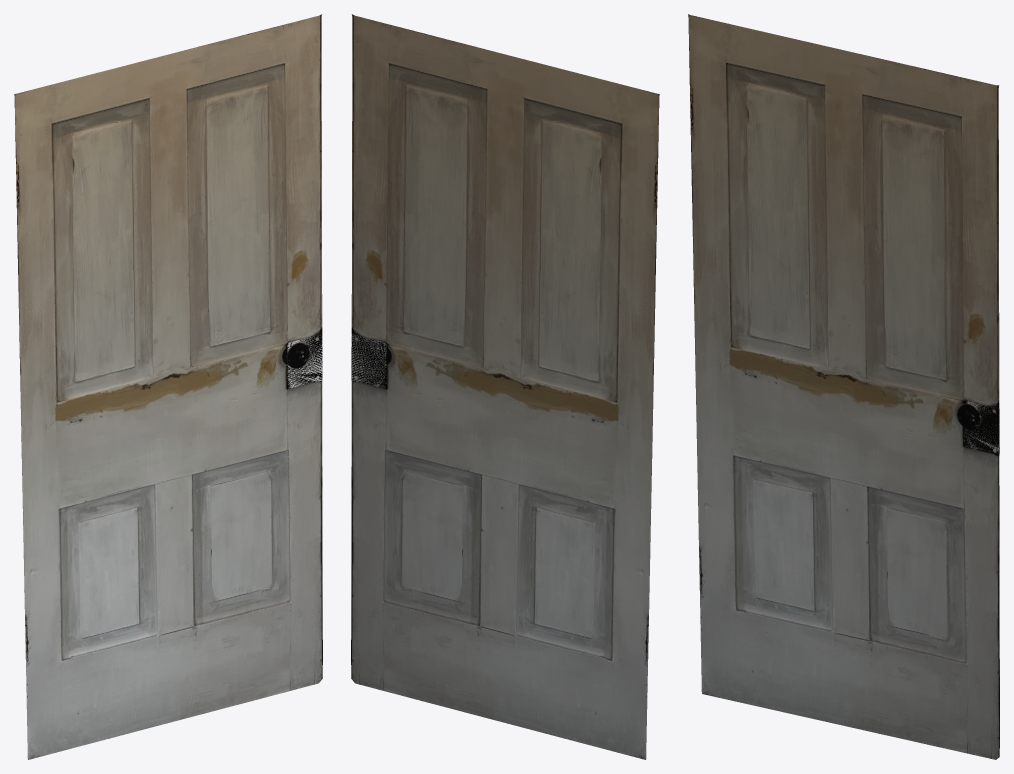
The model's file is attic door.fbx.
3 views of the same model, side by side, from view 1: azimuth 30°, elevation 25°; view 2: azimuth 150°, elevation 25°; view 3: azimuth 330°, elevation 25° (orthographic).
Visible parts, largest first — view 1: DOOR, LOCK; view 2: DOOR, LOCK; view 3: DOOR.
Part boxes in pixels (x1,y1,x2,y2): DOOR: (14,14,322,759); LOCK: (287,335,322,388); DOOR: (351,14,659,759); LOCK: (351,334,386,386); DOOR: (688,14,999,759).
Size of the model in its own units: 204 by 425 by 3.53.
